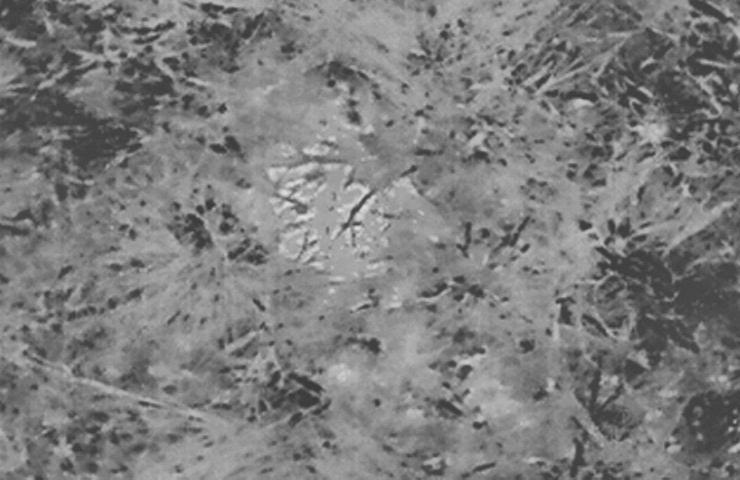landmines: (261, 142, 414, 288)
